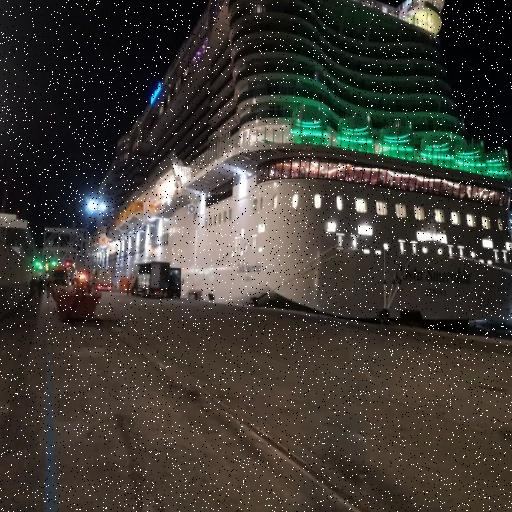cruises: (85, 1, 512, 330)
